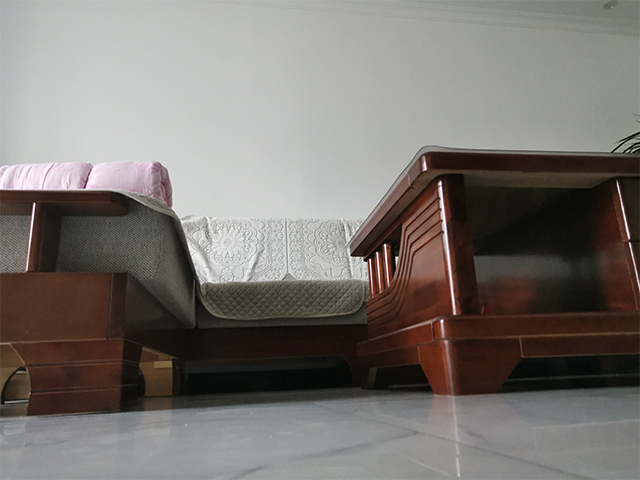sofa: (1, 188, 368, 419)
table: (347, 143, 640, 396)
